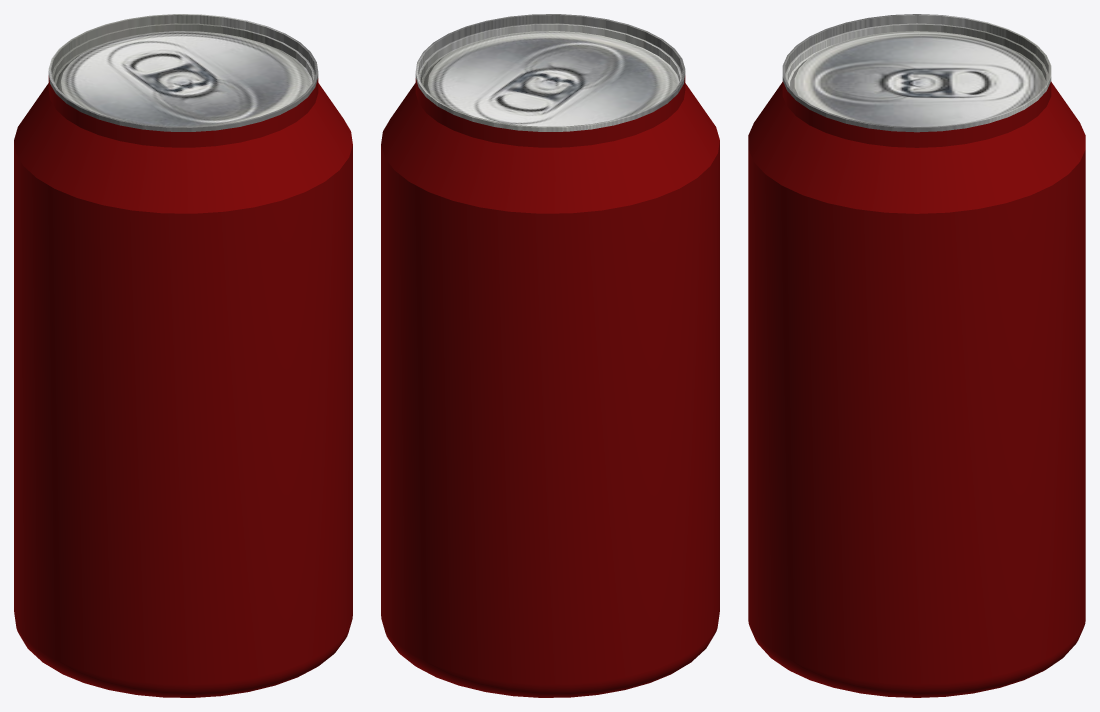
The model's file is sodacan.FBX.
The picture shows the model from 3 angles, left to right: view 1: azimuth 30°, elevation 25°; view 2: azimuth 150°, elevation 25°; view 3: azimuth 270°, elevation 25°; orthographic projection.
Parts seen in each view (by area): view 1: Line001, Top; view 2: Line001, Top; view 3: Line001, Top.
Part boxes in pixels (x1=…): Line001: x1=14, y1=75, x2=352, y2=697; Top: x1=48, y1=14, x2=318, y2=131; Line001: x1=381, y1=75, x2=719, y2=697; Top: x1=415, y1=14, x2=685, y2=131; Line001: x1=748, y1=81, x2=1085, y2=697; Top: x1=782, y1=14, x2=1051, y2=132.
Size of the model in its own units: 128 by 239 by 128.
Materials: 3 (2 with a texture image).
